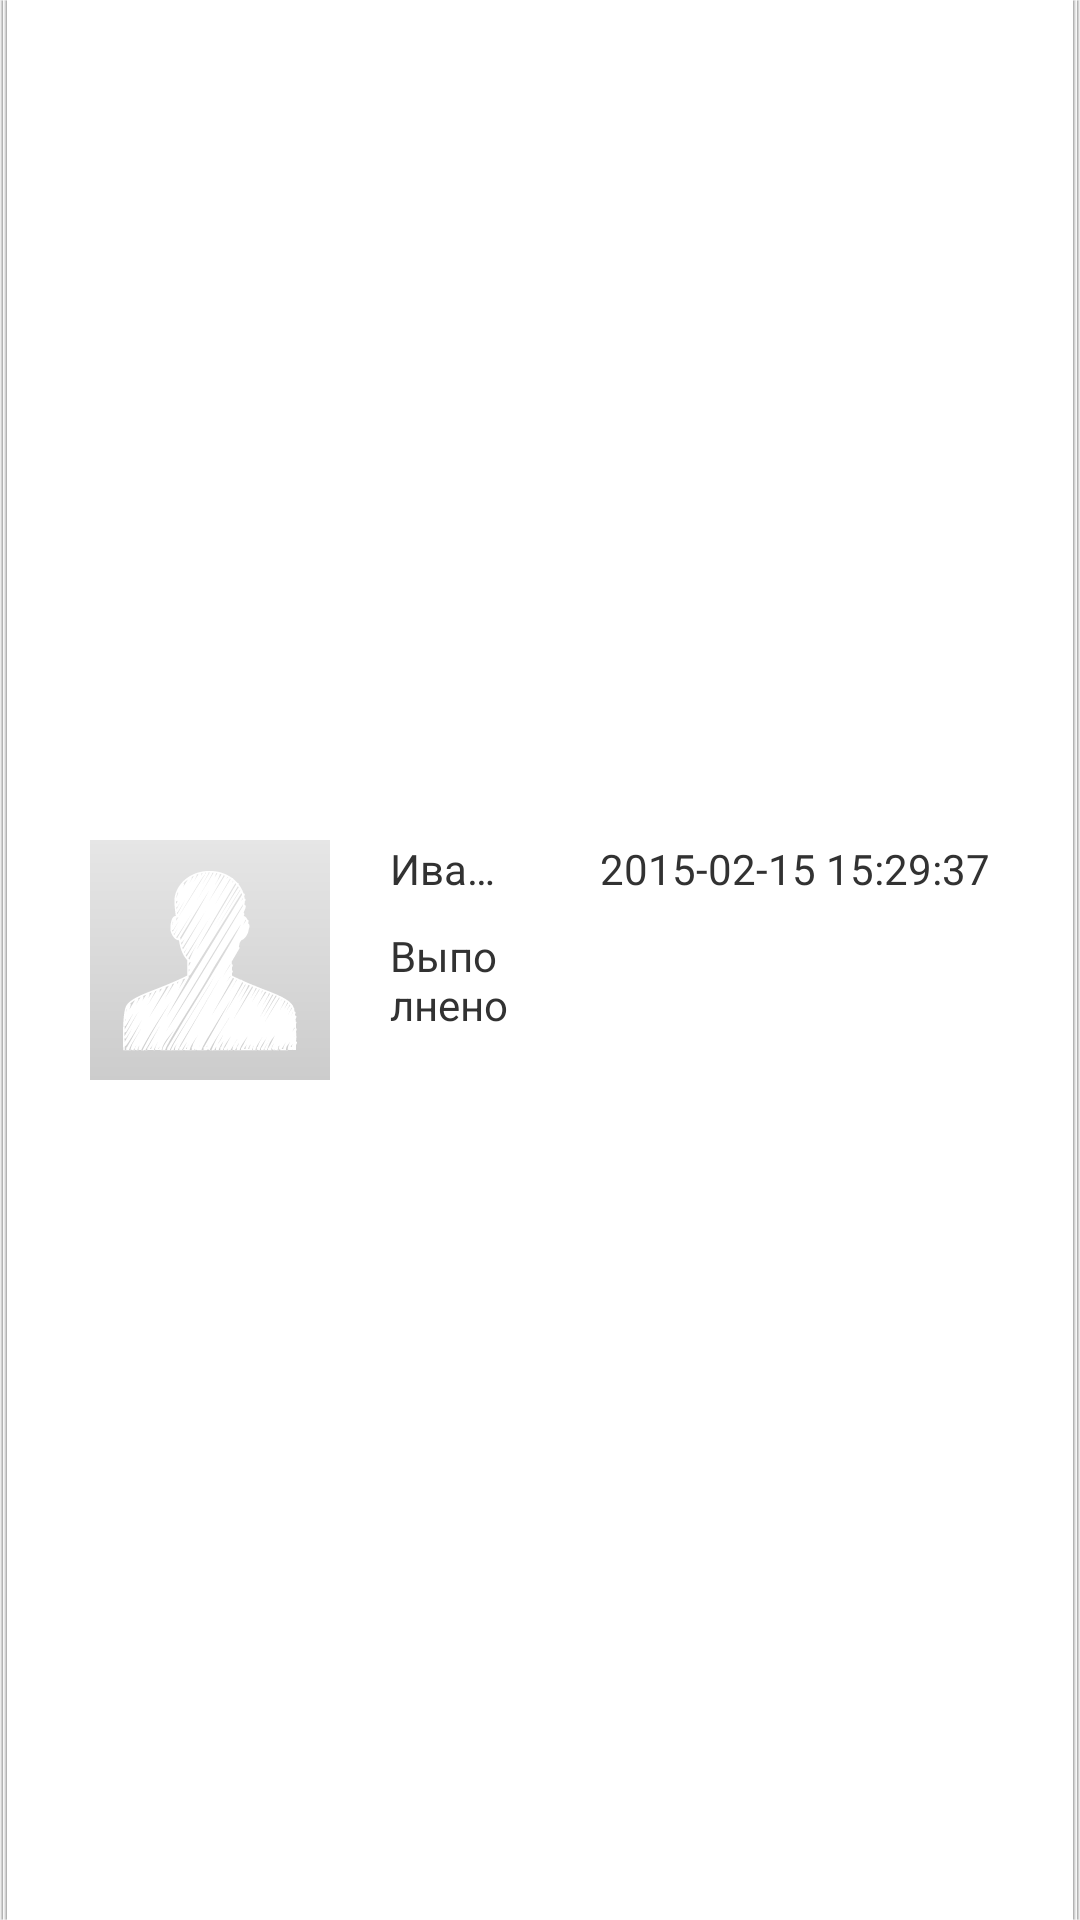

Screen size 1080x1920. Icon name, then its center in pixels as [x,y]:
nophoto: [210,960]
